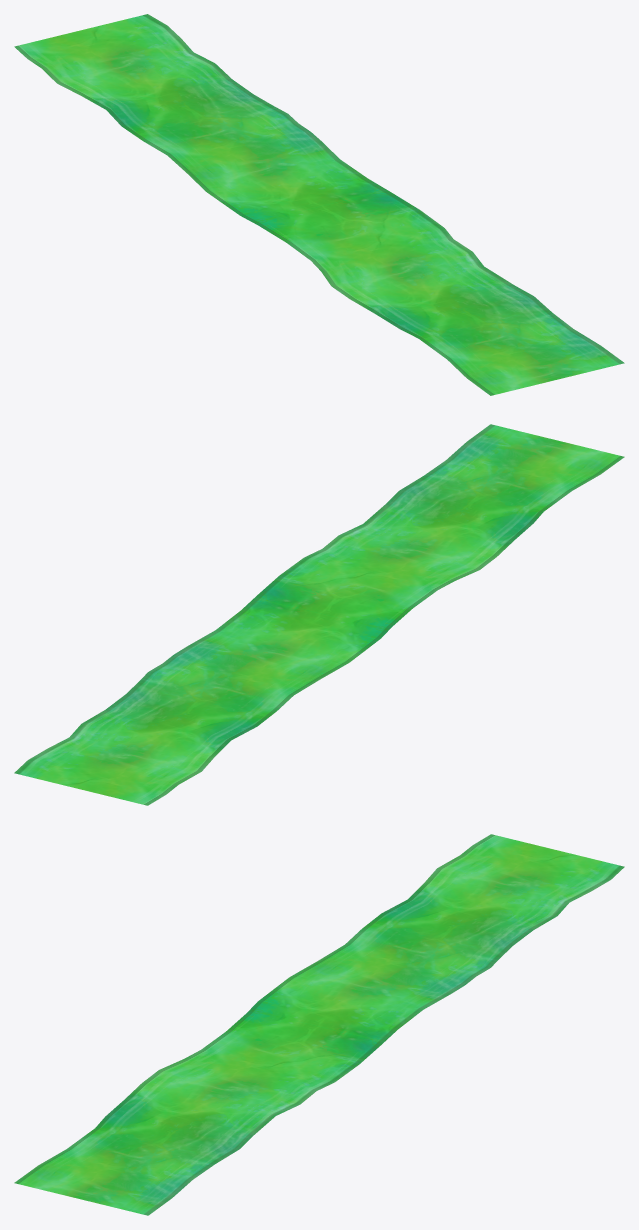
File: Amazon02_Lu03.FBX
3 views of the same model, one above another, from view 1: azimuth 30°, elevation 25°; view 2: azimuth 150°, elevation 25°; view 3: azimuth 330°, elevation 25° (orthographic).
Visible parts, largest first — view 1: Amazon02_Lu03; view 2: Amazon02_Lu03; view 3: Amazon02_Lu03.
Boxes of the visible parts, bbox=[...] form: Amazon02_Lu03: bbox=[14, 14, 624, 395]; Amazon02_Lu03: bbox=[14, 424, 624, 805]; Amazon02_Lu03: bbox=[14, 834, 624, 1215].
Bounding box in the file's own units: 1059 × 0.000244 × 6041.
